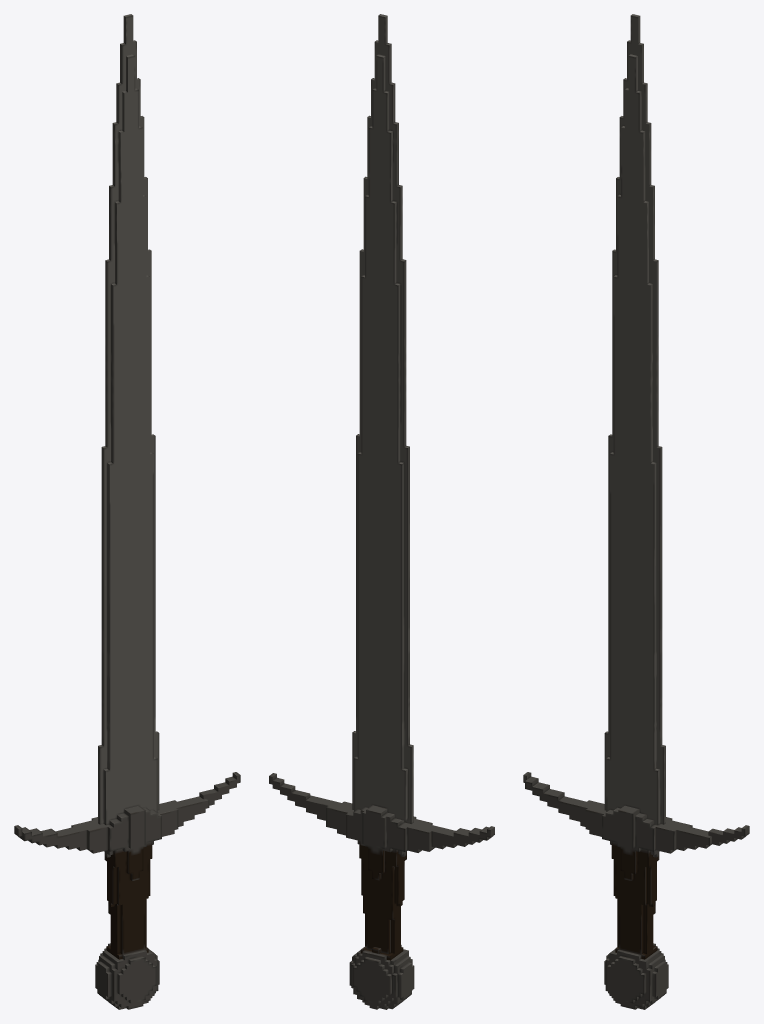
Rendered from ArmingSword.obj.
3 views of the same model, side by side, from view 1: azimuth 30°, elevation 25°; view 2: azimuth 150°, elevation 25°; view 3: azimuth 330°, elevation 25° (orthographic).
Parts seen in each view (by area): view 1: ArmingSword; view 2: ArmingSword; view 3: ArmingSword.
Part boxes in pixels (box(x1,y1,x2,y2)): ArmingSword: box(14, 14, 240, 1009); ArmingSword: box(269, 14, 494, 1009); ArmingSword: box(523, 14, 749, 1009).
Size of the model in its own units: 60 by 256 by 10.
1 material, 1 textured.
